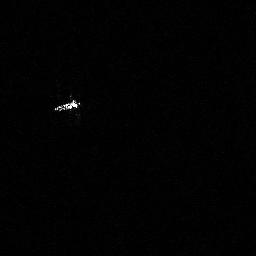ship: (51, 97, 83, 113)
